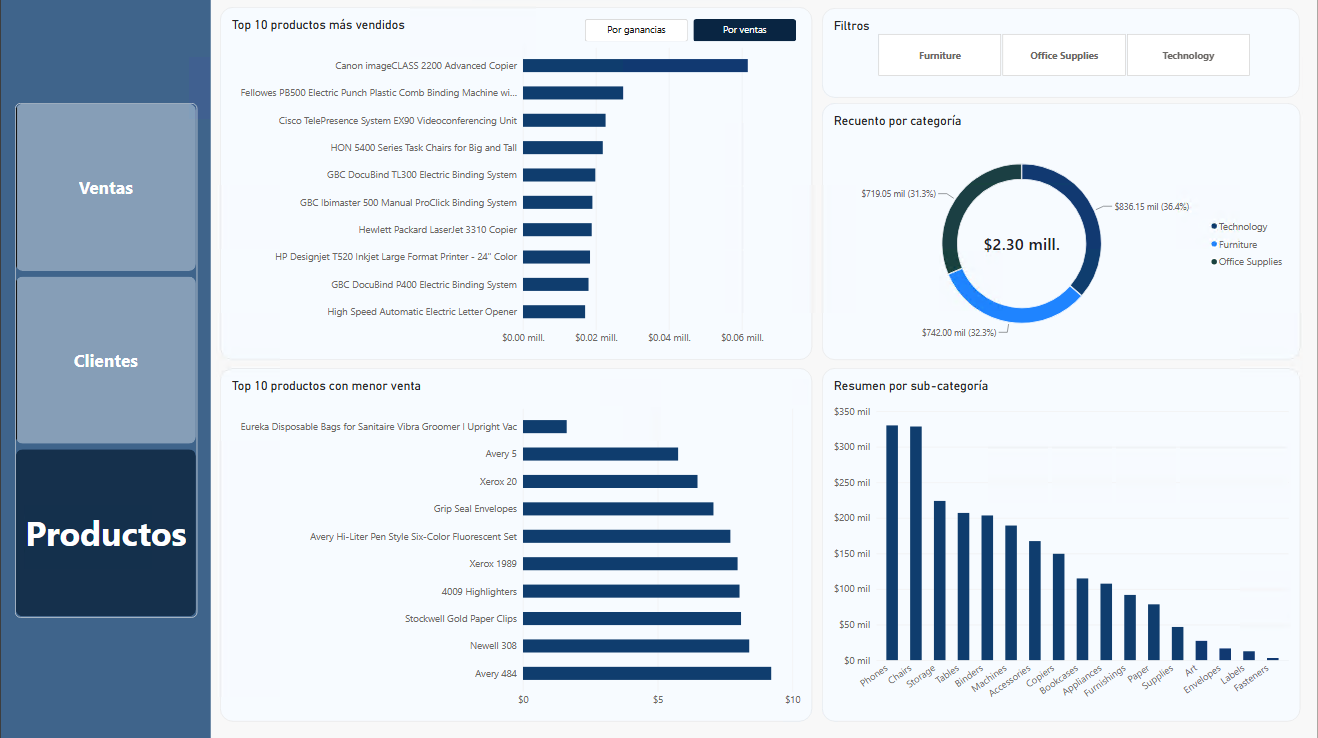

The page's visual inventory and layout, read from the dashboard file:
{"tool":"powerbi","page":{"name":"Productos","canvas":[1920,1080],"ordinal":2},"visuals":[{"type":"shape","box":[0,0,306.4,1079.6],"z":0},{"type":"pageNavigator","box":[20.4,153.2,265.5,751.4],"z":1000},{"type":"clusteredBarChart","title":"Top 10 productos más vendidos","fields":{"Category":["product.Product Name"],"Y":["Sum(sale.Sales)"]},"box":[320,12.5,863.8,515],"z":2000},{"type":"bookmarkNavigator","box":[914.3,14.3,354.3,65.7],"z":4000},{"type":"clusteredBarChart","title":"Top 10 productos con menor venta","fields":{"Category":["product.Product Name"],"Y":["Sum(sale.Sales)"]},"box":[320,540,864,516],"z":5000},{"type":"donutChart","title":"Recuento por categoría","fields":{"Category":["product.Category"],"Y":["Sum(sale.Sales)"]},"box":[1197.5,153.8,697.5,375],"z":6000},{"type":"kpi","title":"Filtros","fields":{"Indicator":["Medidas.Ganancia"]},"box":[1197.1,14.3,697.1,131.4],"z":7000},{"type":"slicer","fields":{"Values":["product.Category"]},"box":[1243.8,36.2,613.8,95],"z":8000},{"type":"columnChart","title":"Resumen por sub-categoría","fields":{"Category":["product.Sub-Category"],"Y":["Sum(sale.Sales)"]},"box":[1197.5,540,697.5,516.2],"z":9000},{"type":"bookmarkNavigator","box":[852.5,30,308.8,33.8],"z":10000}]}

Visuals, with their boxes on the page's 1920x1080 design canvas (x1, y1, x2, y2). These are canvas units, not pixel positions in the 1318x738 screenshot, which may show the page scaled, cropped or inside an application window:
shape: 0:0:306:1080
pageNavigator: 20:153:286:905
"Top 10 productos más vendidos" clusteredBarChart: 320:12:1184:528
bookmarkNavigator: 914:14:1269:80
"Top 10 productos con menor venta" clusteredBarChart: 320:540:1184:1056
"Recuento por categoría" donutChart: 1198:154:1895:529
"Filtros" kpi: 1197:14:1894:146
slicer - product.Category: 1244:36:1858:131
"Resumen por sub-categoría" columnChart: 1198:540:1895:1056
bookmarkNavigator: 852:30:1161:64
